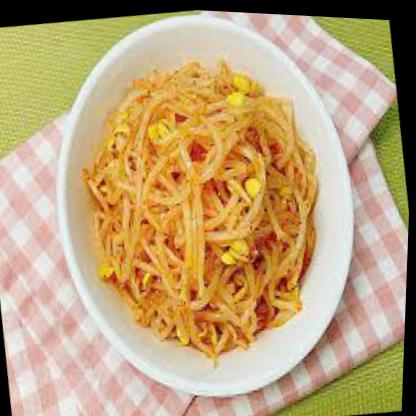seasoned bean sprouts: (75, 36, 337, 356)
